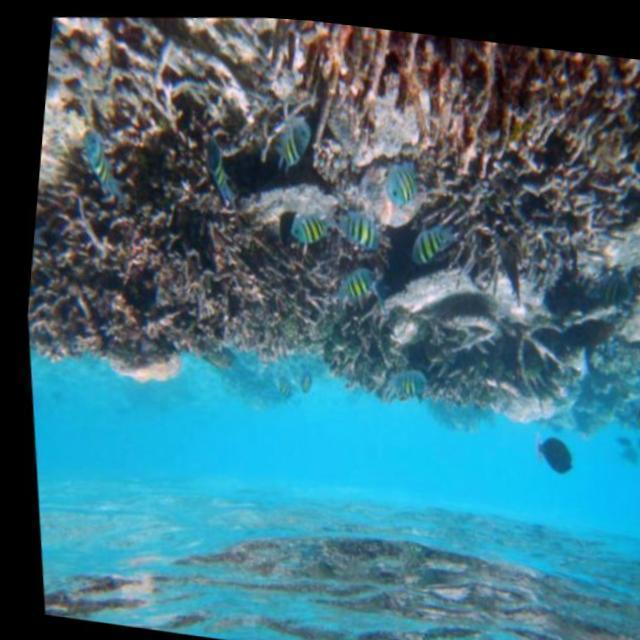Dead Coral: (13, 0, 640, 394)
